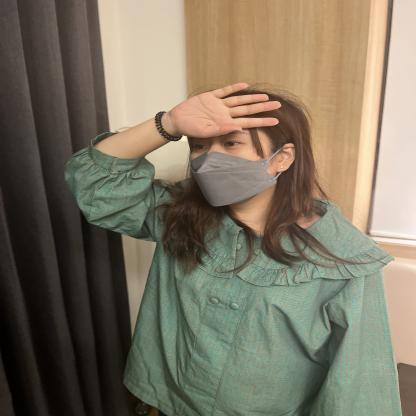Sick: (63, 64, 354, 165)
